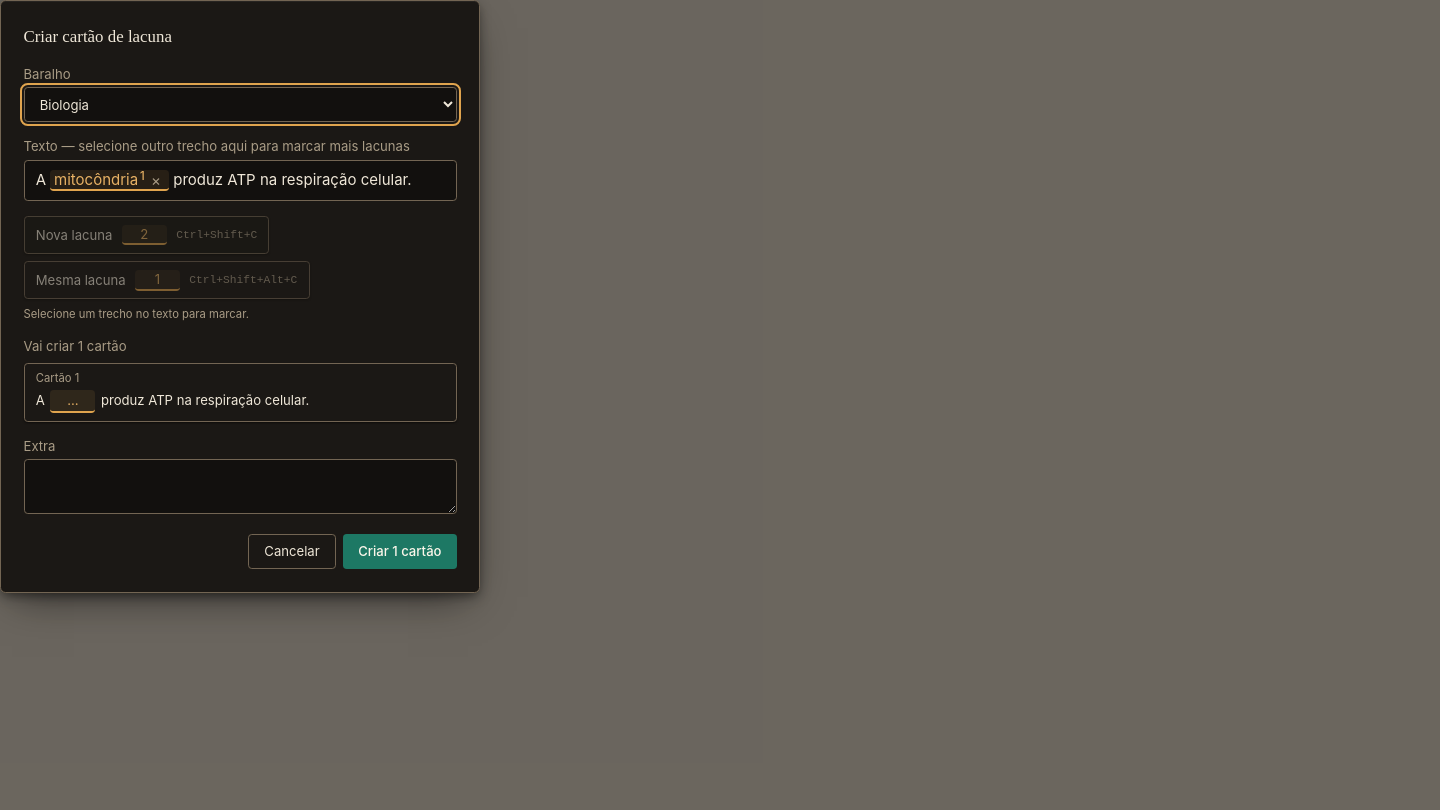
Test case: CriarLacunaDeOrigem — marcar mais lacunas › remover a única lacuna desabilita o salvar: uma nota sem lacuna não nasce
Expected: the text "Vai criar 1 cartão" is shown, [24, 338, 126, 354]
Click the button named "Remover lacuna 1: mitocôndria": (156, 181) [146, 172, 165, 191]
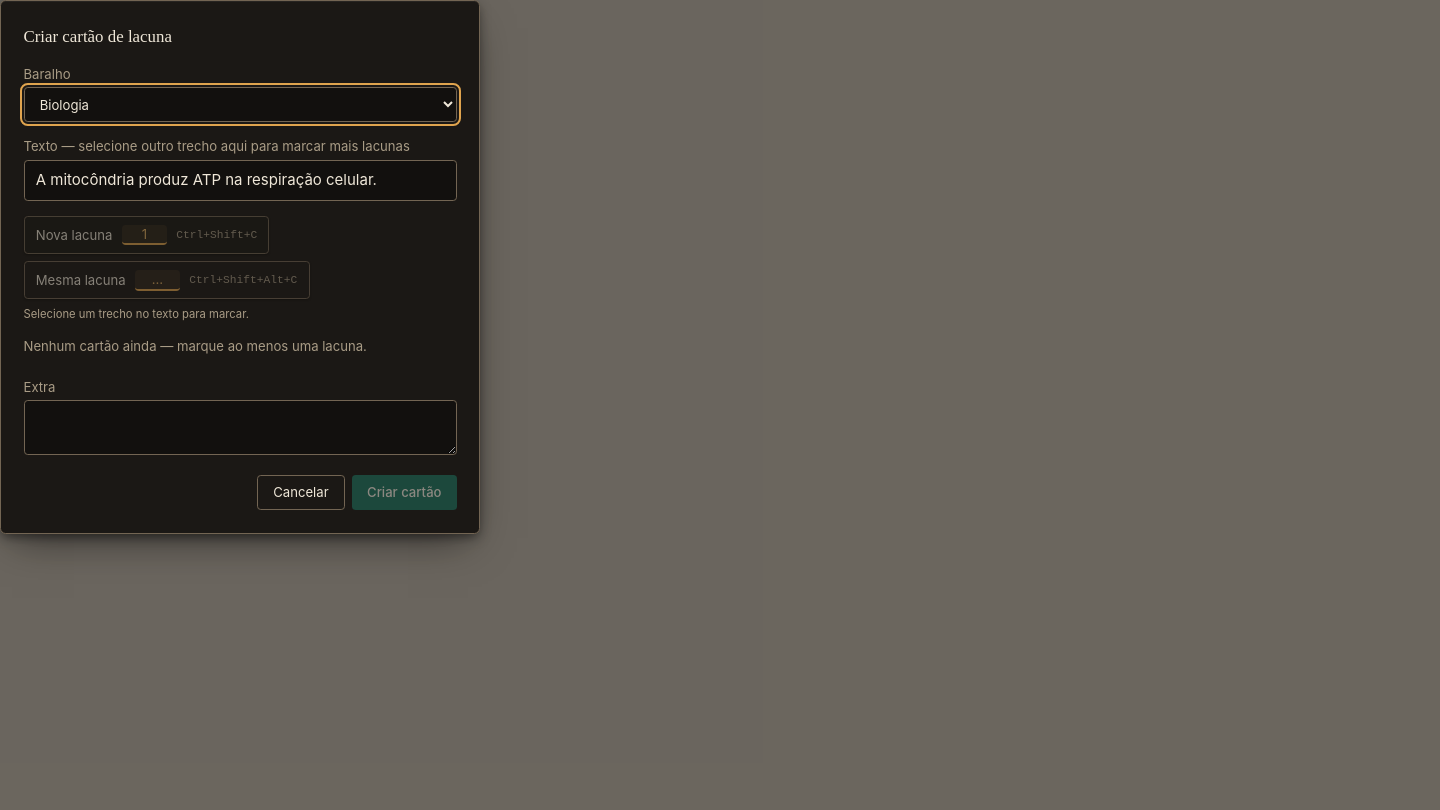
Result: the text "Nenhum cartão ainda — marque ao menos uma lacuna." is shown at [24, 338, 367, 354]
Result: the button "Criar cartão" is disabled at [352, 475, 456, 510]
Submit the form "Criar cartão", box [1, 1, 479, 533]
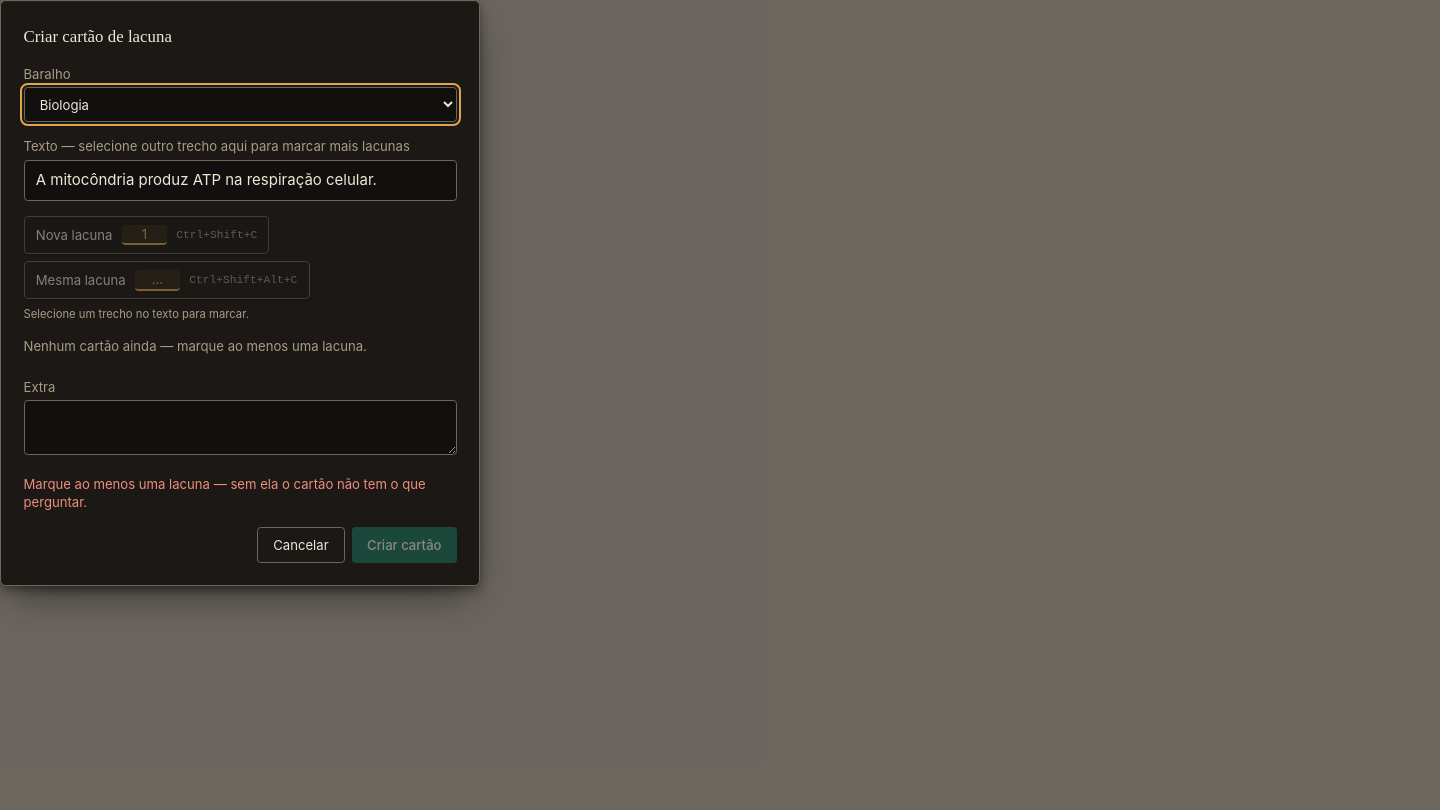
Result: the message "Marque ao menos uma lacuna — sem ela o cartão não tem o que perguntar." is shown at [24, 475, 456, 512]
